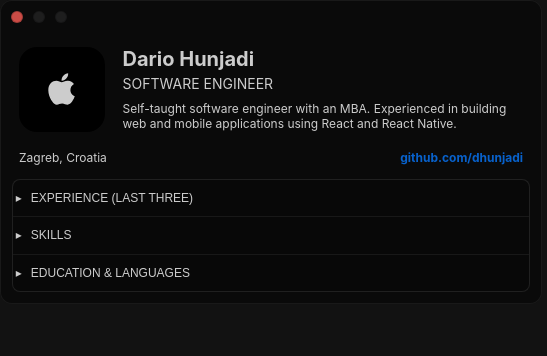
Test case: AboutThisDevWindow › toggles the Skill accordion when clicked
The image size is (547, 356).
Click the button "Skills". click: [51, 235]
box: [13,217,529,254]
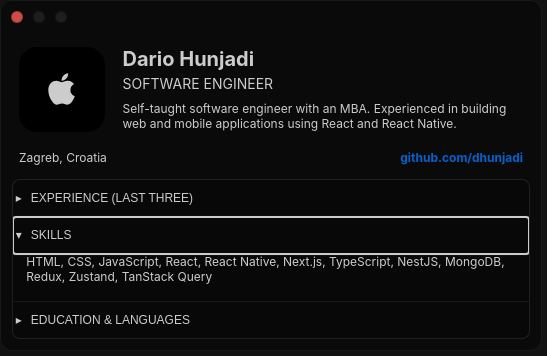
Check: the text "zustand" is shown, box [26,254,505,284]
